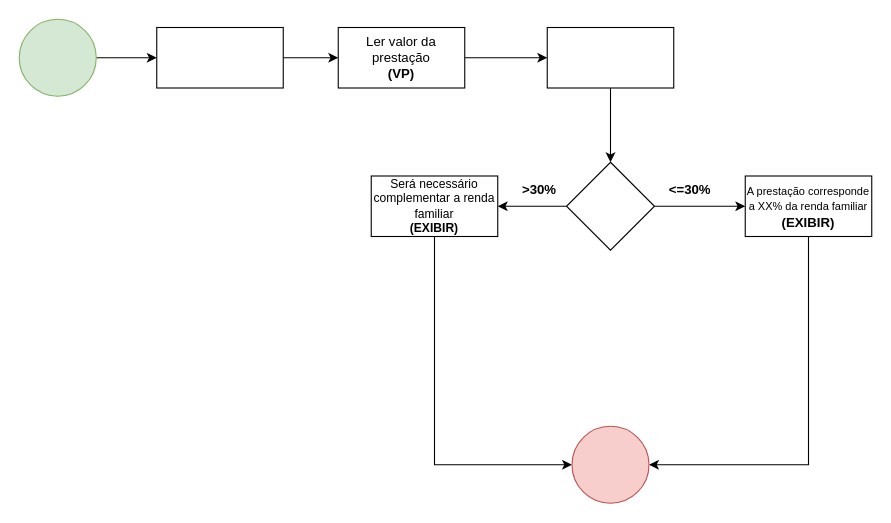
Some shapes in this 891 by 523 pixel diagram are drawn without their labels. Here are the shapes that lost their labels. From the top down, the centre of each, then its label:
(x=219, y=57): Ler valor da renda (VR)
(x=610, y=57): Calcular (VR/VP * 100)
